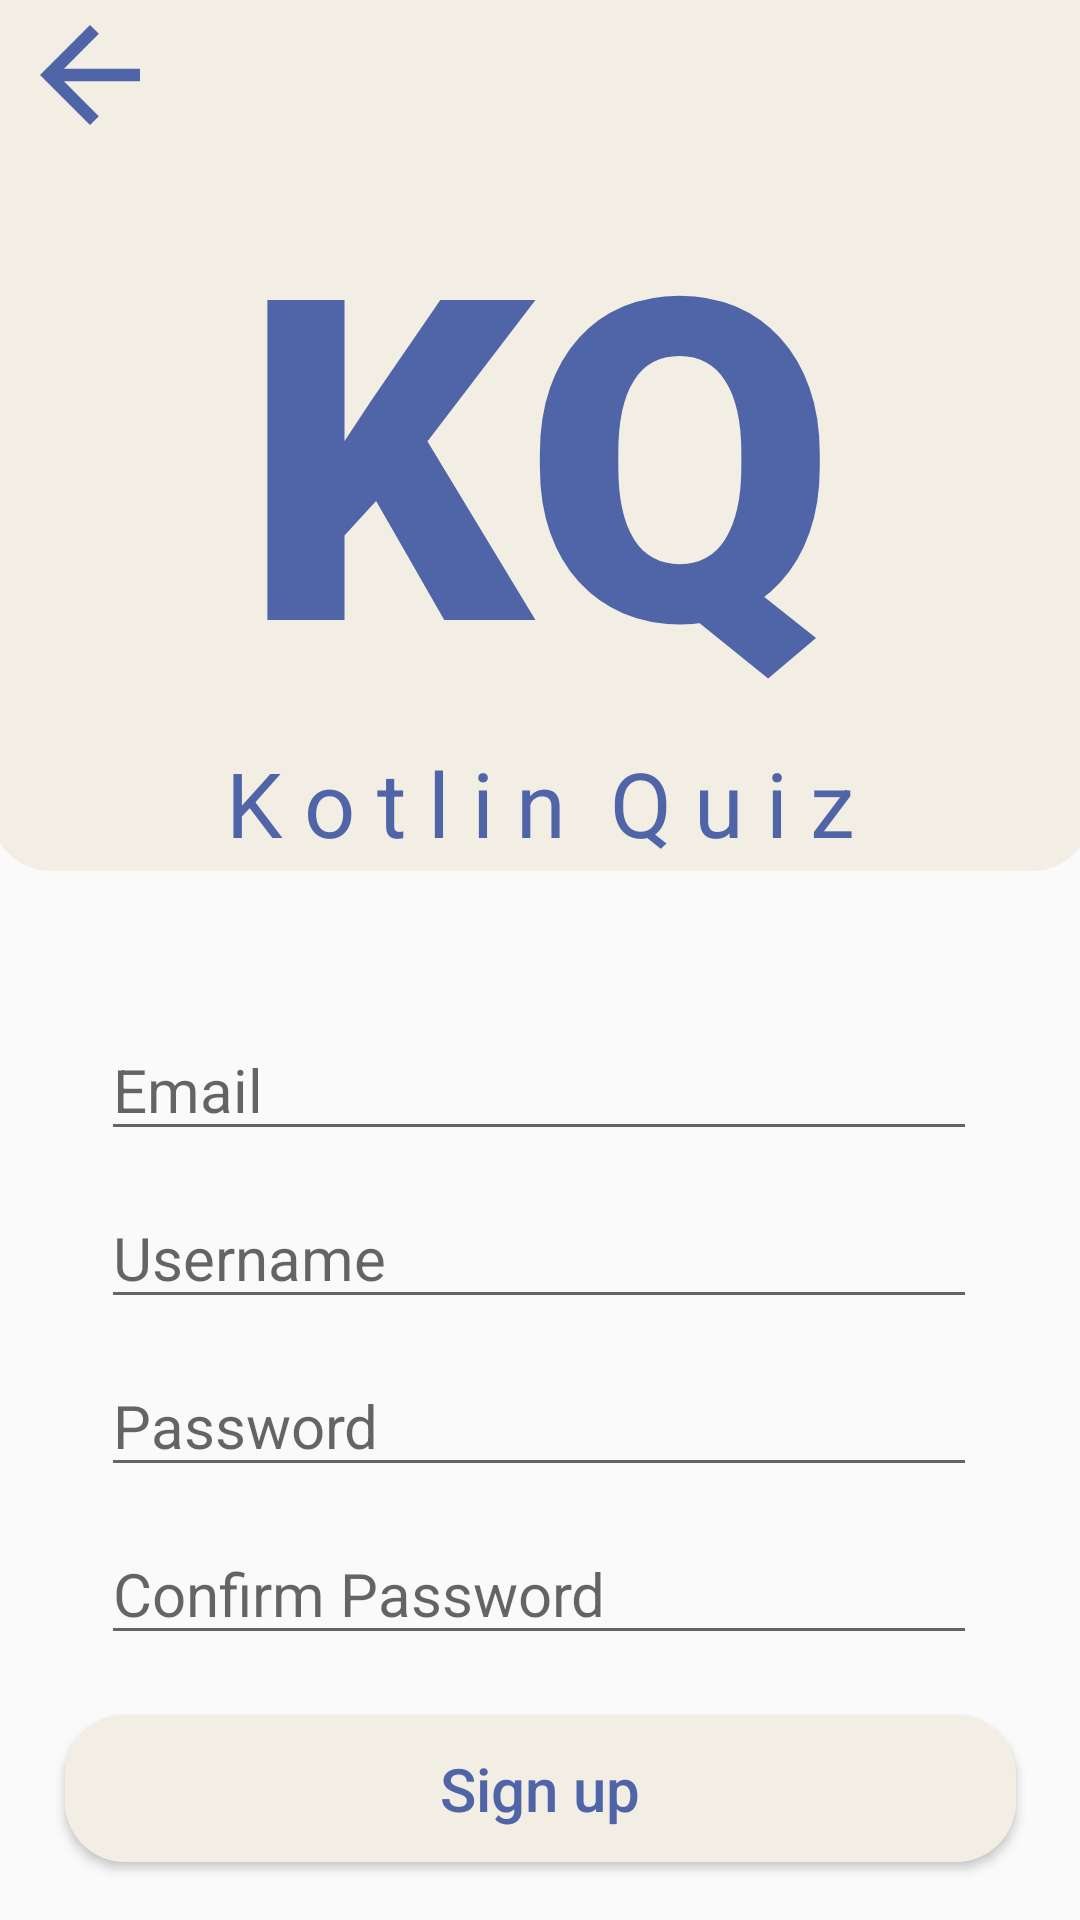

Locate icon controls on the screen. Image size 1080 × 1920, boxes as (x1, y1, x2, y2).
back: (40, 25, 140, 125)
